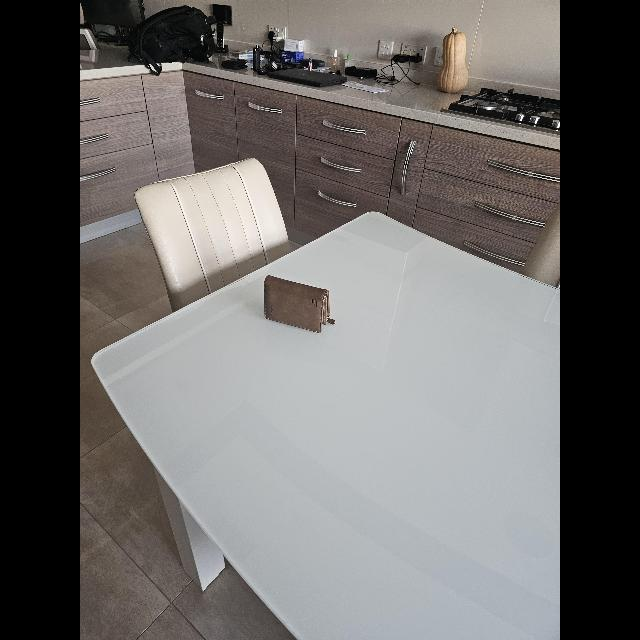Wallet: (262, 274, 334, 334), (221, 59, 249, 70)
